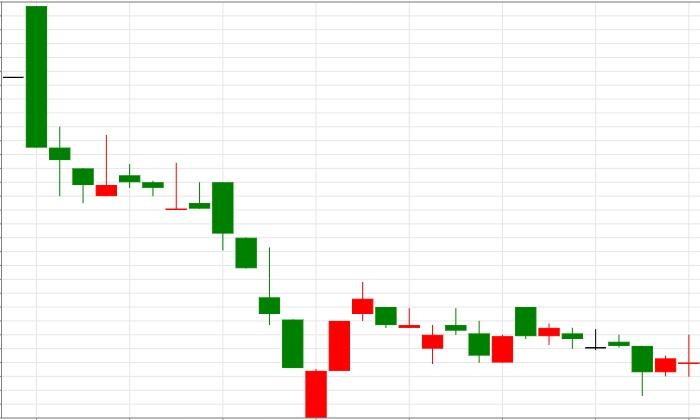three_white_soldiers_rise: (189, 181, 373, 418)
